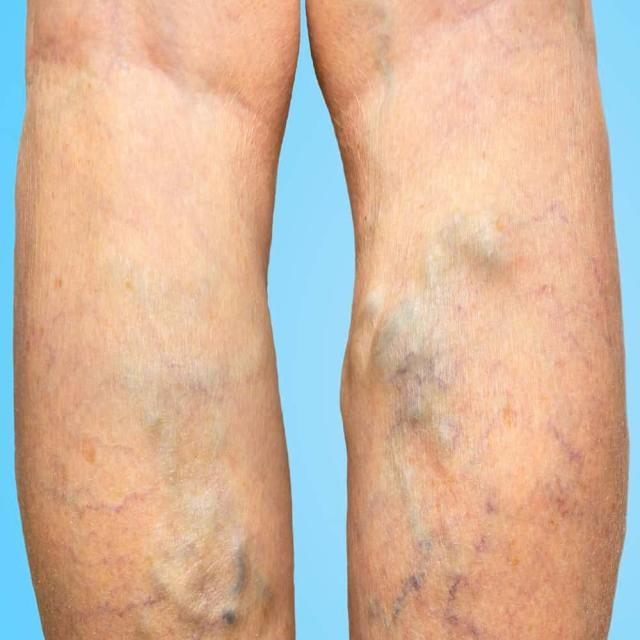Varicose: (33, 41, 632, 602)
